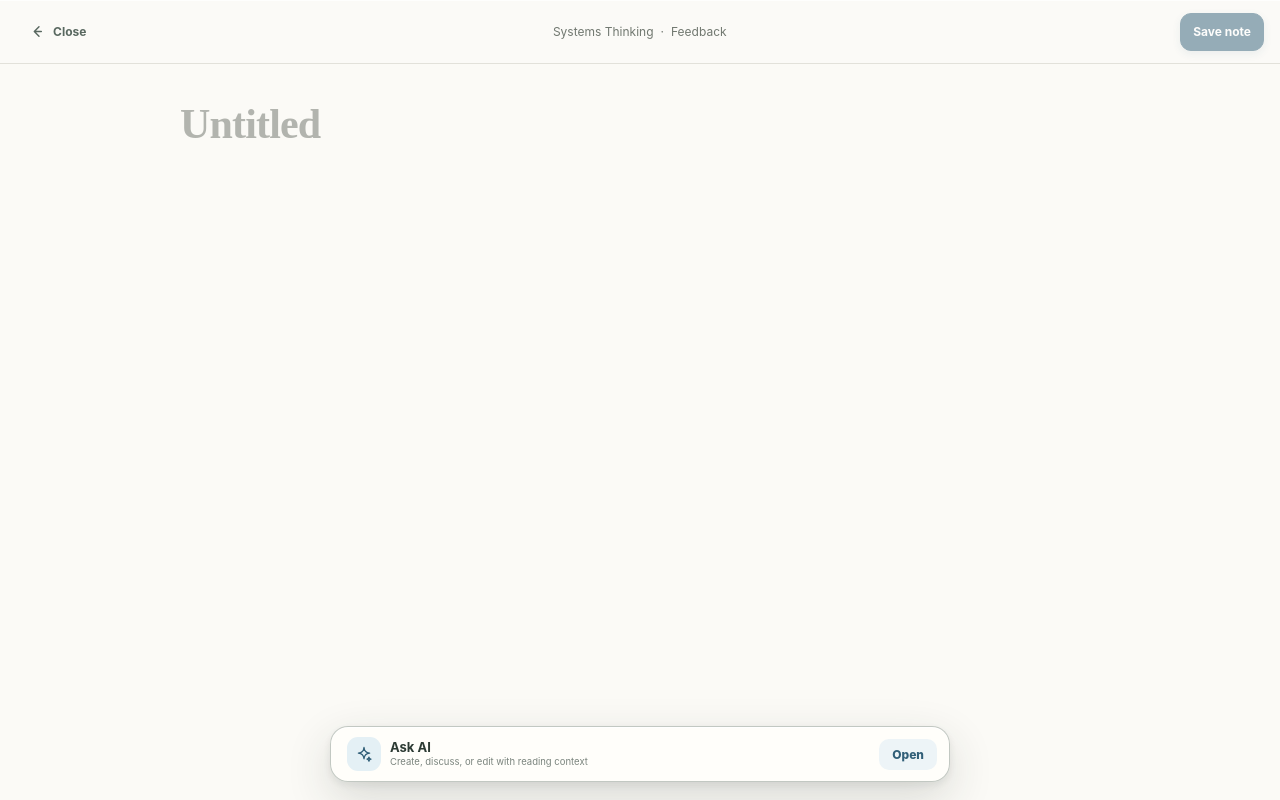
it: a new note keeps its source draft alive across StrictMode remounting
This screenshot has width=1280, height=800.
Step 1. Type "A new note" into the text box named "Reading note title" → (640, 126), box [148,100,1132,152]
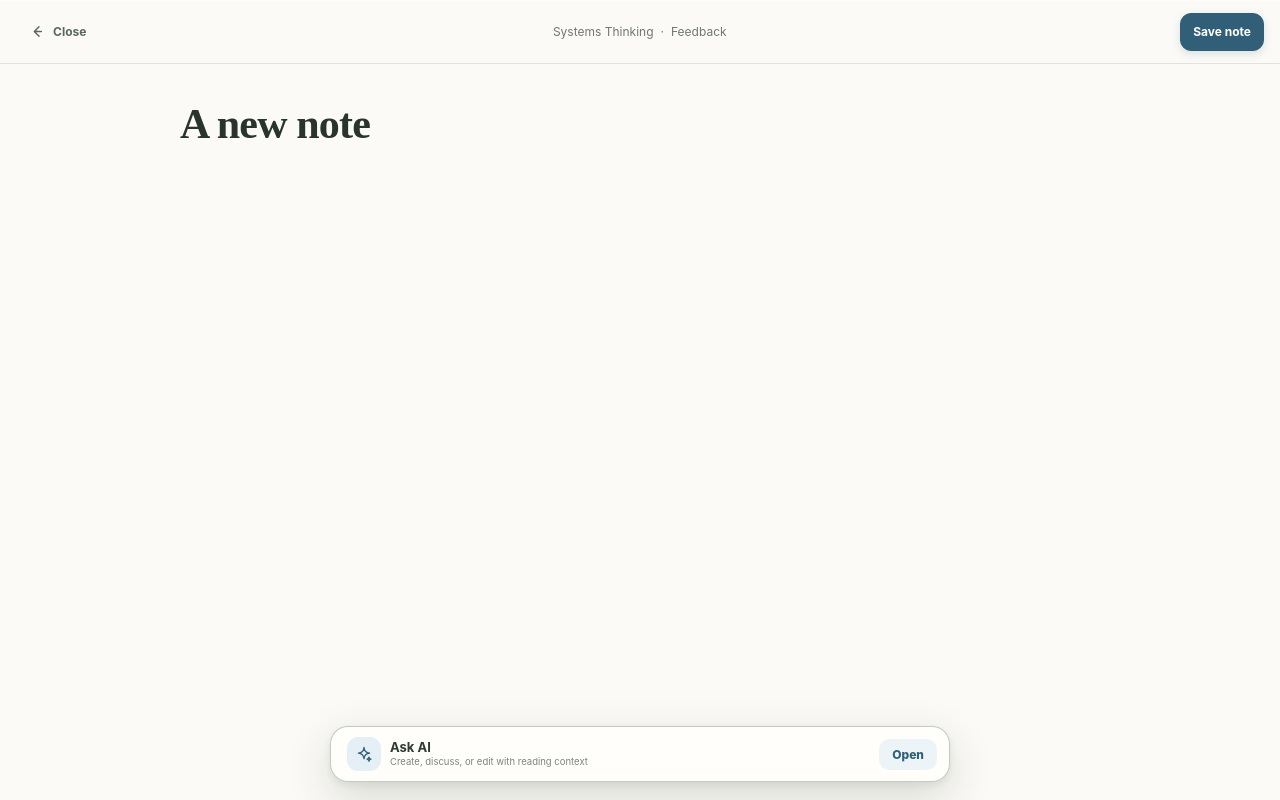
Step 2. Click the button "Save note" → (1222, 32), box [1180,12,1264,50]
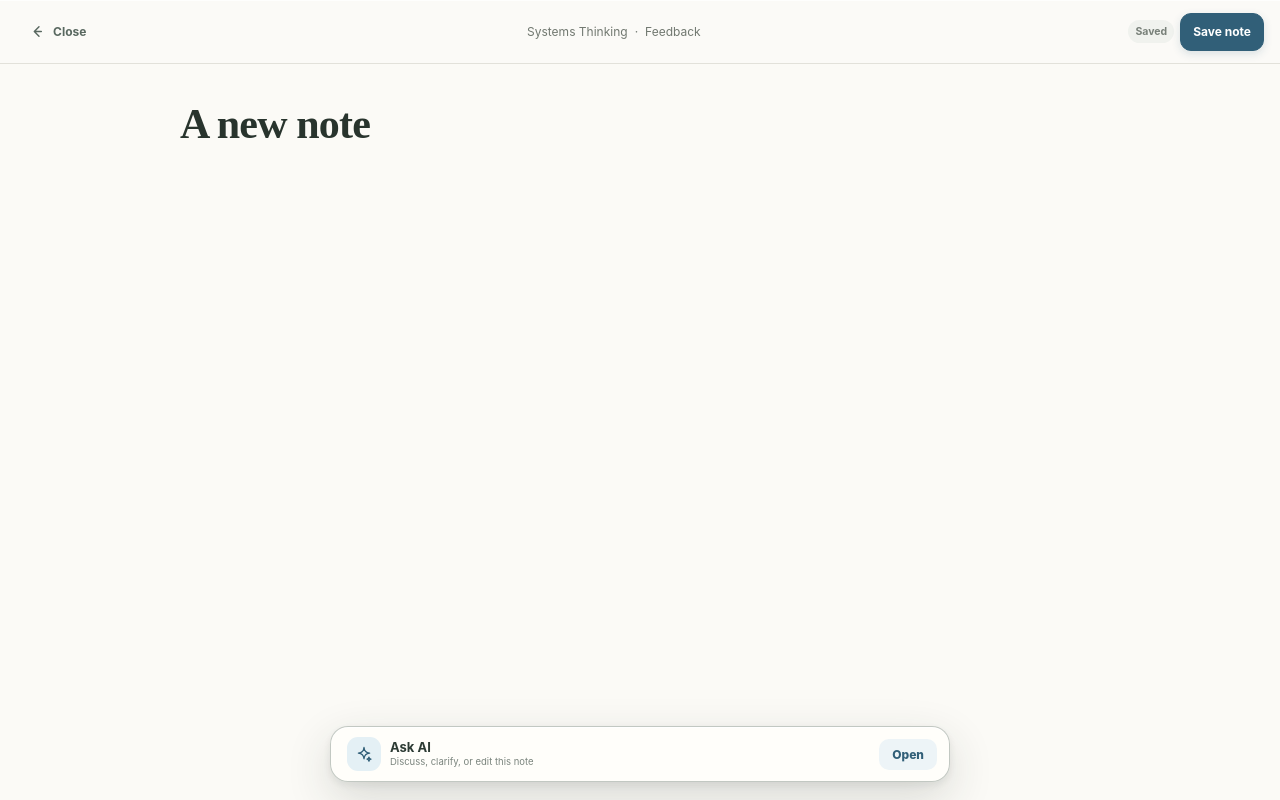
Expected: the text "Saved" is shown, [1128,20,1174,43]
